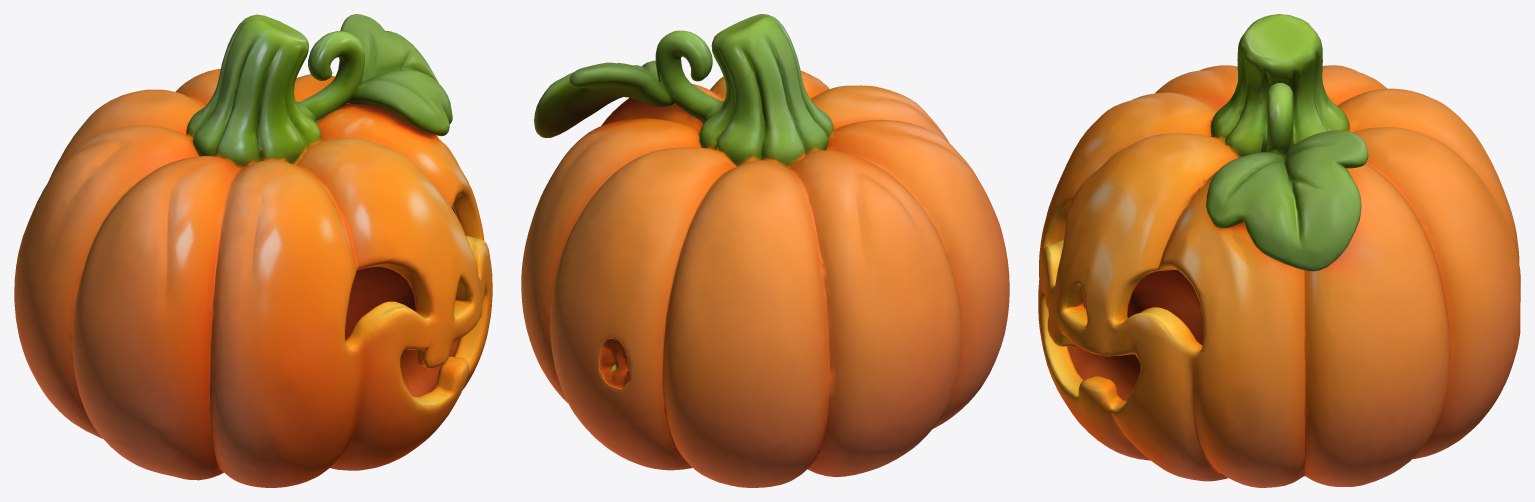
File: pumpkin.glb
3 renders of one model, left to right at view 1: azimuth 30°, elevation 25°; view 2: azimuth 150°, elevation 25°; view 3: azimuth 270°, elevation 25°, orthographic. The views are drawn at different scales.
Parts seen in each view (by area): view 1: tripo_node_0a4af9bc-7427-49b7-9bf5-3a6e44e904fd; view 2: tripo_node_0a4af9bc-7427-49b7-9bf5-3a6e44e904fd; view 3: tripo_node_0a4af9bc-7427-49b7-9bf5-3a6e44e904fd.
Part boxes in pixels (left/top/right/bottom): tripo_node_0a4af9bc-7427-49b7-9bf5-3a6e44e904fd: left=14, top=14, right=492, bottom=487; tripo_node_0a4af9bc-7427-49b7-9bf5-3a6e44e904fd: left=521, top=14, right=1009, bottom=487; tripo_node_0a4af9bc-7427-49b7-9bf5-3a6e44e904fd: left=1038, top=14, right=1520, bottom=487.
Bounding box in the file's own units: 1 × 0.9524 × 0.9917.
1 material, 1 textured.
